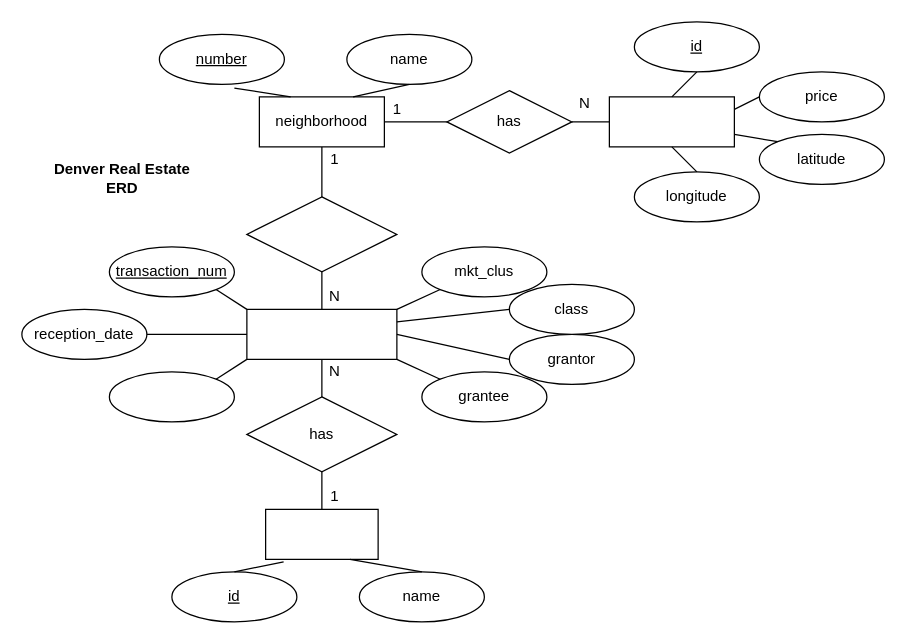
Some shapes in this 906 by 644 pixel diagram are drawn without their labels. The centre of each missing label's shape, as x and y in pixels:
"airbnb" belongs at [671,121].
"contains" belongs at [321,234].
"d_class" belongs at [321,533].
"property" belongs at [321,333].
"sale_price" belongs at [171,396].
